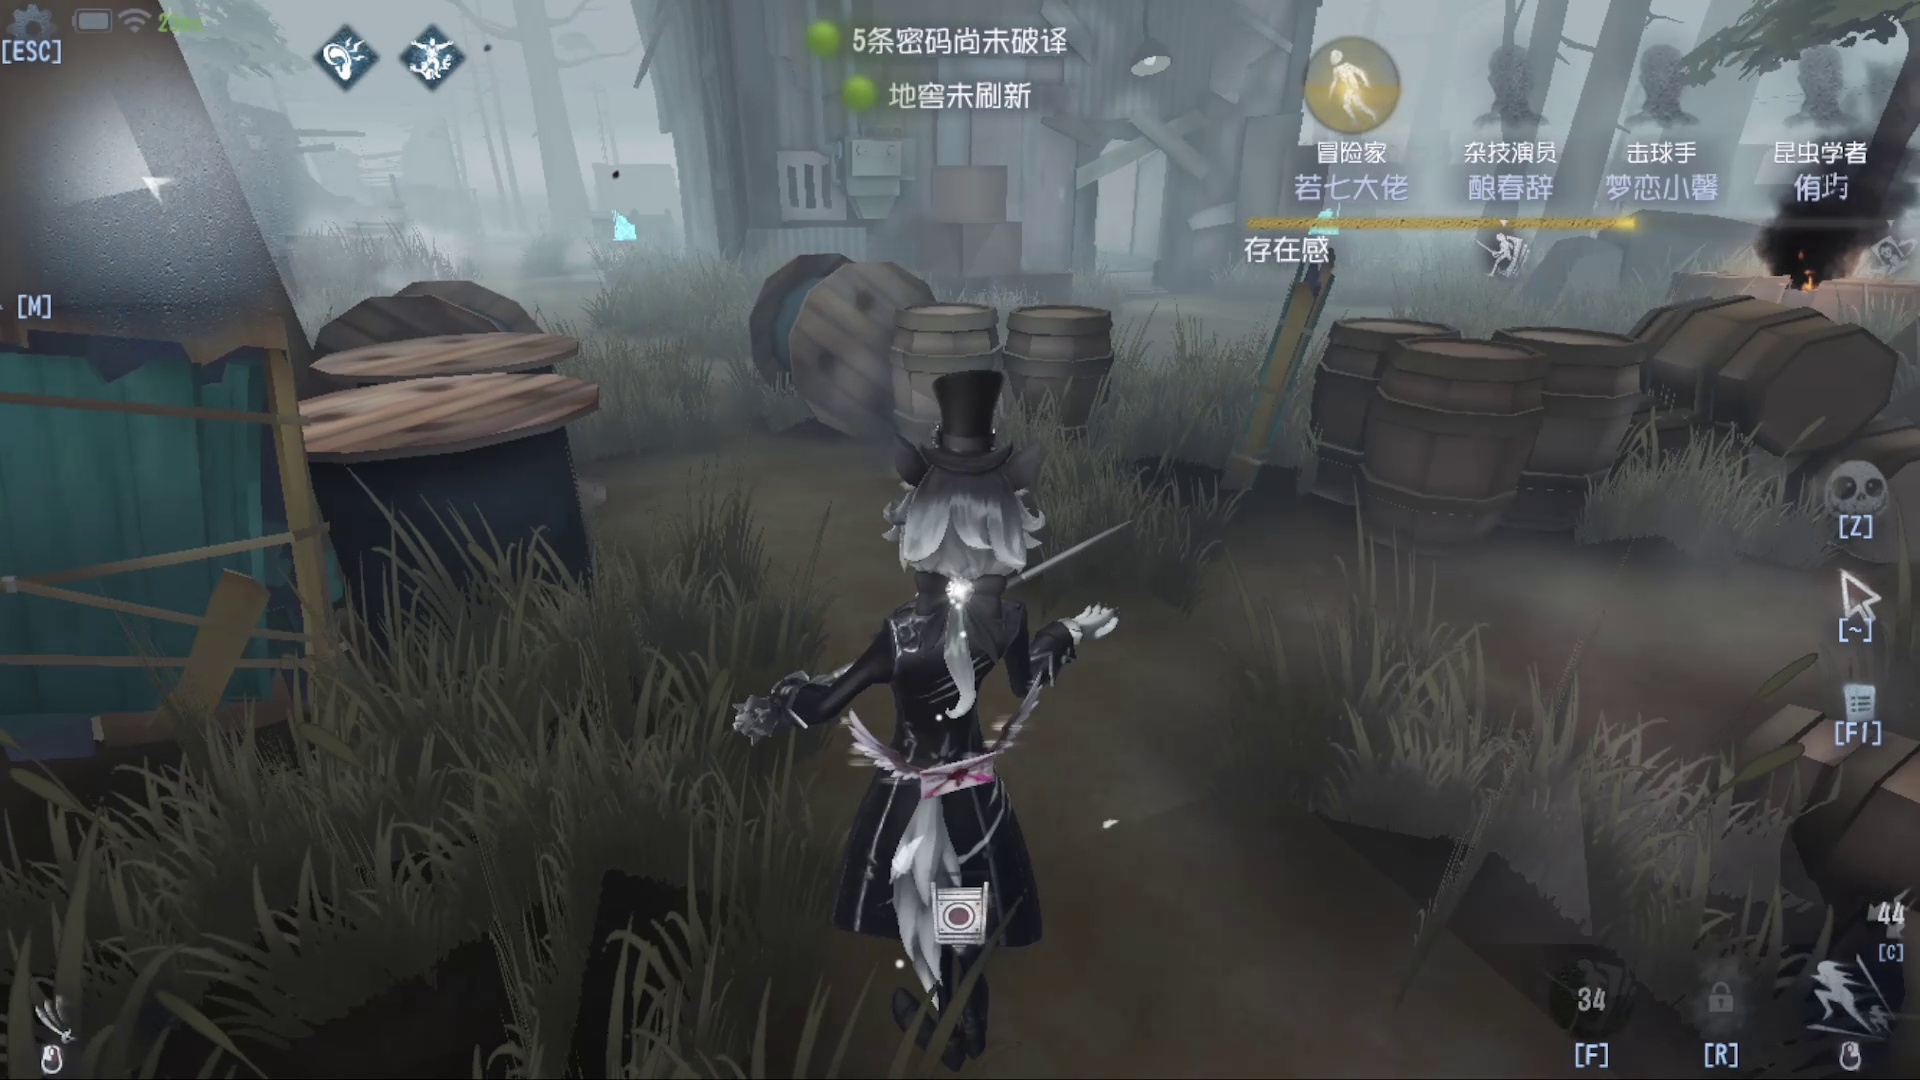密码机: (582, 99, 665, 268), (1296, 115, 1360, 251)
木板: (1, 302, 386, 771), (1185, 247, 1315, 535)
